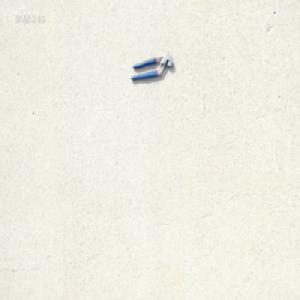Pliers: (130, 52, 174, 82)
